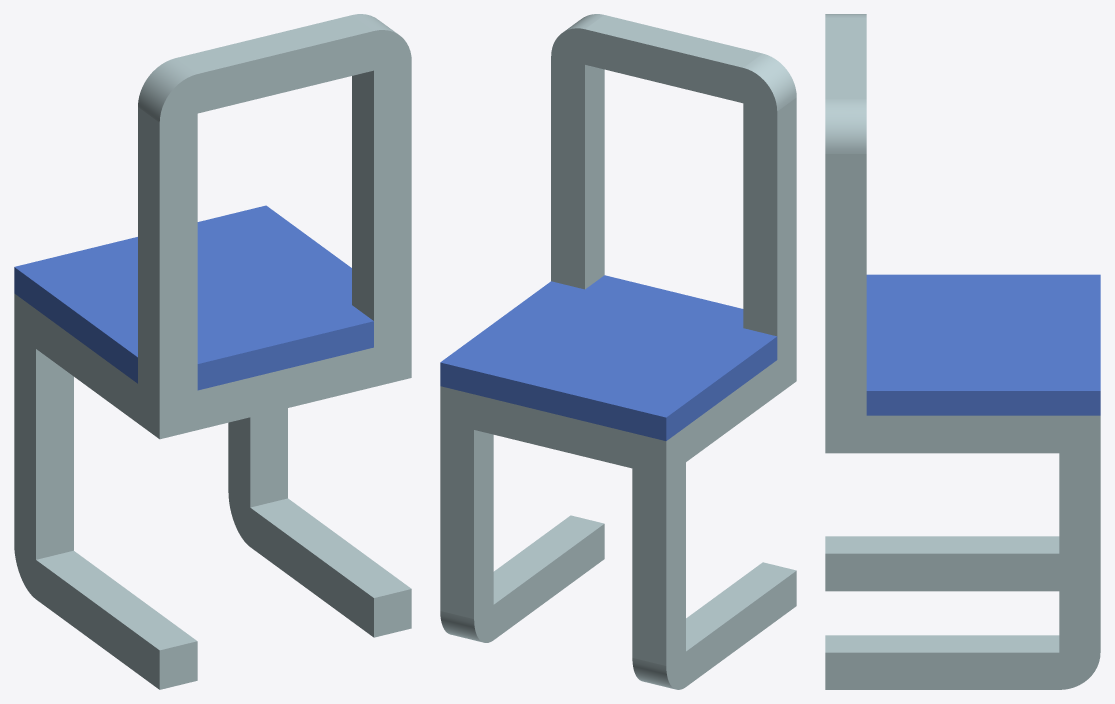
The model's file is chairModernFrameCushion.obj.
3 views of the same model, side by side, from view 1: azimuth 30°, elevation 25°; view 2: azimuth 150°, elevation 25°; view 3: azimuth 270°, elevation 25° (orthographic). The views are drawn at different scales.
Visible parts, largest first — view 1: chairModernFrameCushion; view 2: chairModernFrameCushion; view 3: chairModernFrameCushion.
Part boxes in pixels (x1=…): chairModernFrameCushion: x1=14, y1=14, x2=411, y2=689; chairModernFrameCushion: x1=440, y1=14, x2=796, y2=689; chairModernFrameCushion: x1=825, y1=14, x2=1100, y2=689.
Size of the model in its own units: 0.2 by 0.46 by 0.2.
